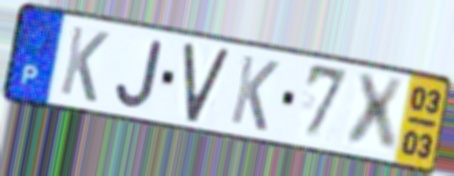7: (302, 60, 353, 146)
J: (113, 36, 166, 111)
K: (56, 23, 112, 106), (227, 52, 282, 135)
V: (181, 41, 233, 125)
X: (345, 71, 407, 155)
